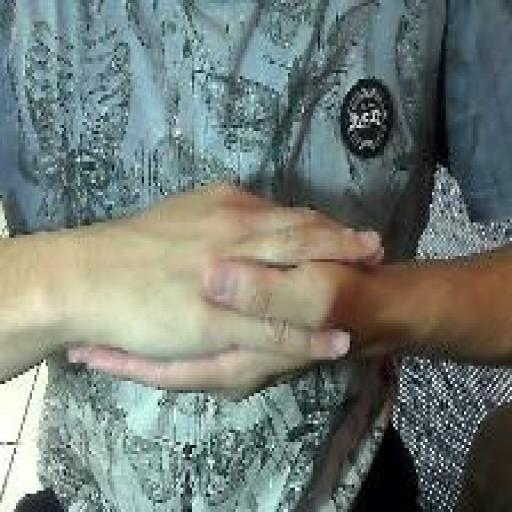Saru -monkey-: (62, 175, 388, 410)
